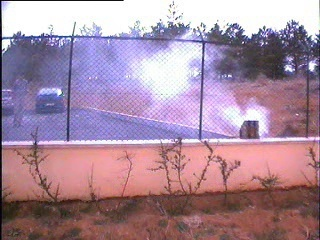smoke: (108, 26, 272, 136)
